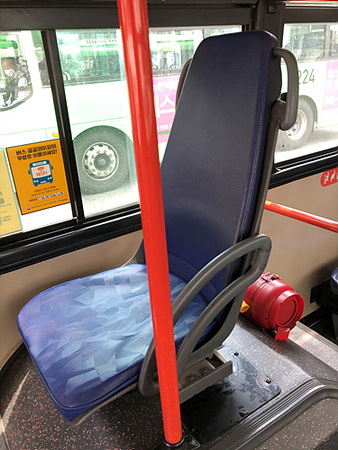seat: (21, 37, 280, 400)
